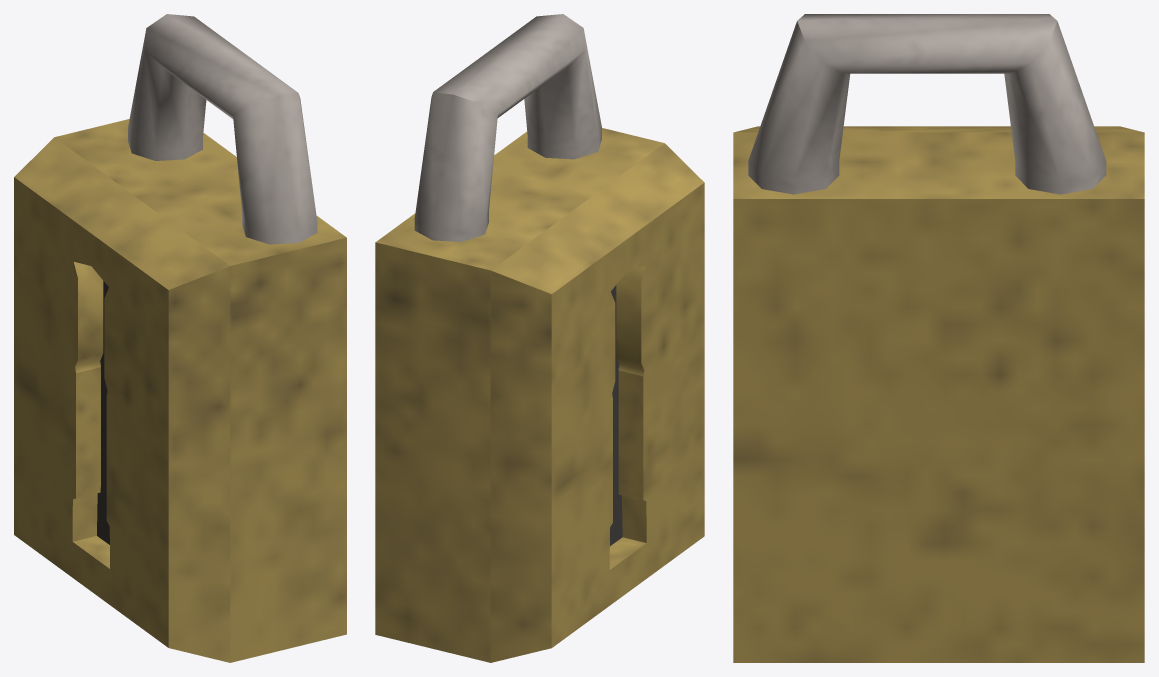
Rendered from gold lock.fbx.
The picture shows the model from 3 angles, left to right: view 1: azimuth 30°, elevation 25°; view 2: azimuth 150°, elevation 25°; view 3: azimuth 270°, elevation 25°; orthographic projection. The views are drawn at different scales.
Parts seen in each view (by area): view 1: Lockpick_Key.001, Lockpick_Handle.001; view 2: Lockpick_Key.001, Lockpick_Handle.001; view 3: Lockpick_Key.001, Lockpick_Handle.001.
Part boxes in pixels (<box>): Lockpick_Key.001: <box>14,119,346,662</box>; Lockpick_Handle.001: <box>128,14,317,244</box>; Lockpick_Key.001: <box>375,128,704,662</box>; Lockpick_Handle.001: <box>414,14,601,241</box>; Lockpick_Key.001: <box>733,126,1144,662</box>; Lockpick_Handle.001: <box>748,14,1106,194</box>.
Bounding box in the file's own units: 17.66 × 53.28 × 32.12.
Materials: 1 (1 with a texture image).
